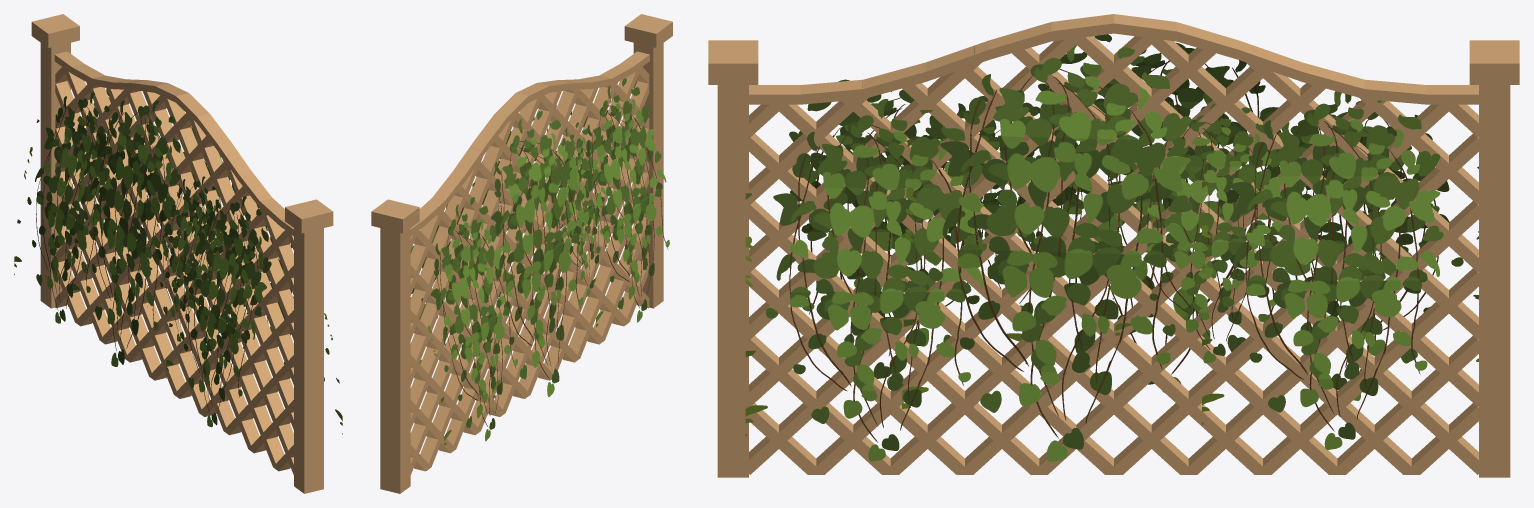
Rendered from trellisplants.fbx.
3 renders of one model, left to right at view 1: azimuth 30°, elevation 25°; view 2: azimuth 150°, elevation 25°; view 3: azimuth 270°, elevation 25°, orthographic. The views are drawn at different scales.
Parts seen in each view (by area): view 1: Plane.016; view 2: Plane.016; view 3: Plane.016.
Part boxes in pixels (x1,y1,x2,y2): Plane.016: (14,14,342,493); Plane.016: (371,14,672,493); Plane.016: (708,14,1519,477).
Size of the model in its own units: 84.78 by 244 by 397.
